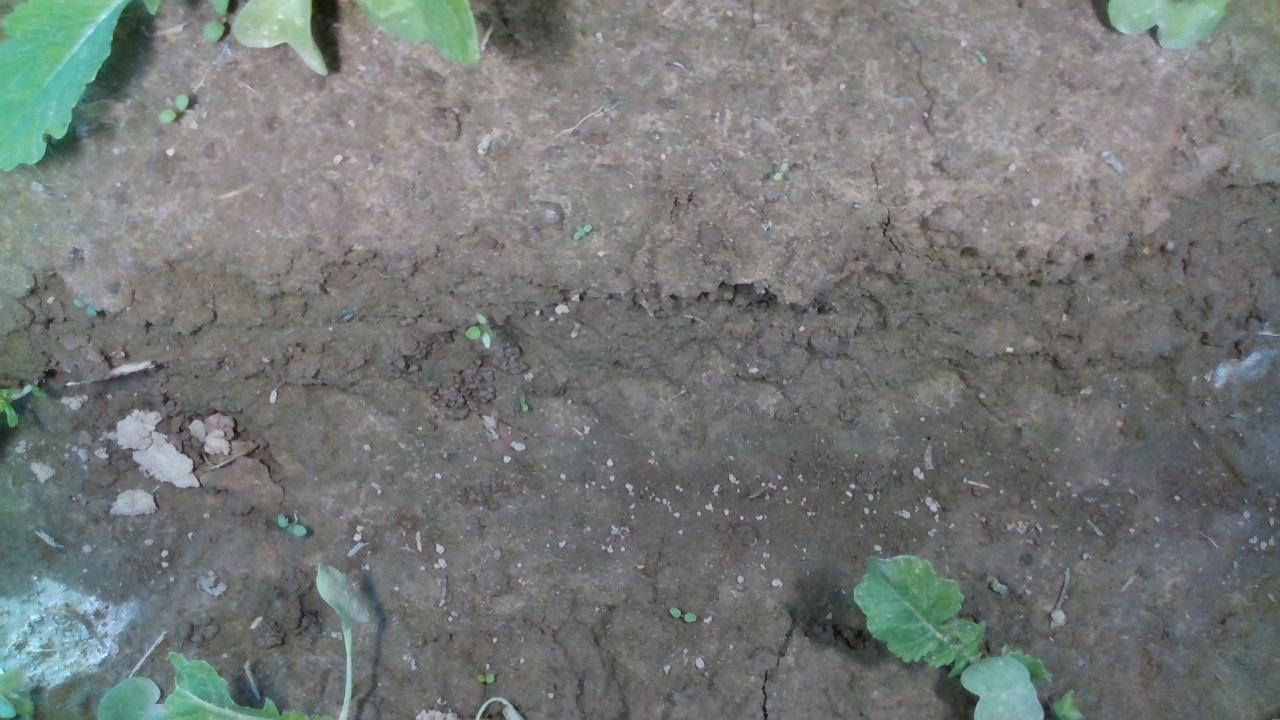weed: (461, 310, 495, 349), (154, 91, 188, 125), (275, 512, 307, 537), (667, 604, 697, 623), (769, 157, 788, 181), (571, 221, 591, 241), (475, 670, 495, 684), (517, 390, 528, 411)
